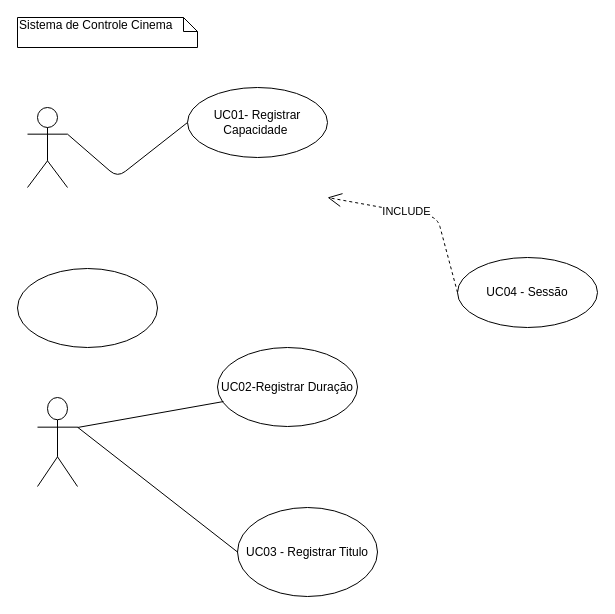
This 615x614 diagram has some shape labels left out. Each missing label, with the centre of its shape:
Cliente: pixel 57 441
Sala: pixel 47 147
UC05 - Sala: pixel 87 308
